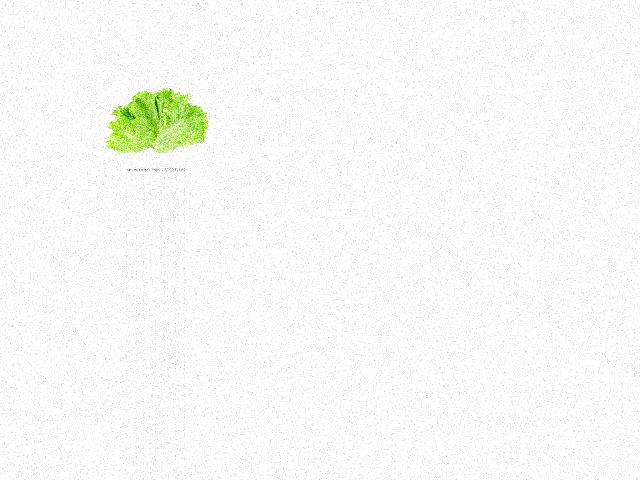lettuce: (105, 87, 210, 166)
